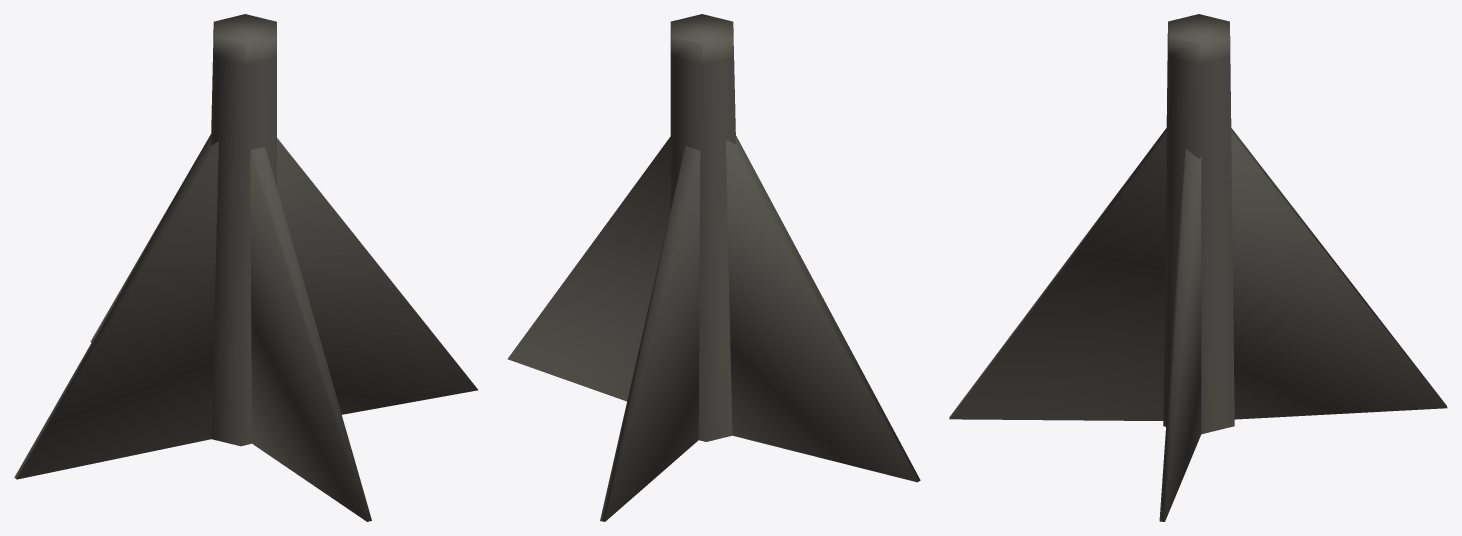
Rendered from broadleaf_b_low.glb.
3 views of the same model, side by side, from view 1: azimuth 30°, elevation 25°; view 2: azimuth 150°, elevation 25°; view 3: azimuth 270°, elevation 25° (orthographic).
Parts seen in each view (by area): view 1: broadleaf_b_low; view 2: broadleaf_b_low; view 3: broadleaf_b_low.
Part boxes in pixels (<box>): broadleaf_b_low: <box>14,14,478,521</box>; broadleaf_b_low: <box>507,14,920,521</box>; broadleaf_b_low: <box>949,14,1447,521</box>.
Bounding box in the file's own units: 2.41 × 2.09 × 2.42.
1 material, 1 textured.
